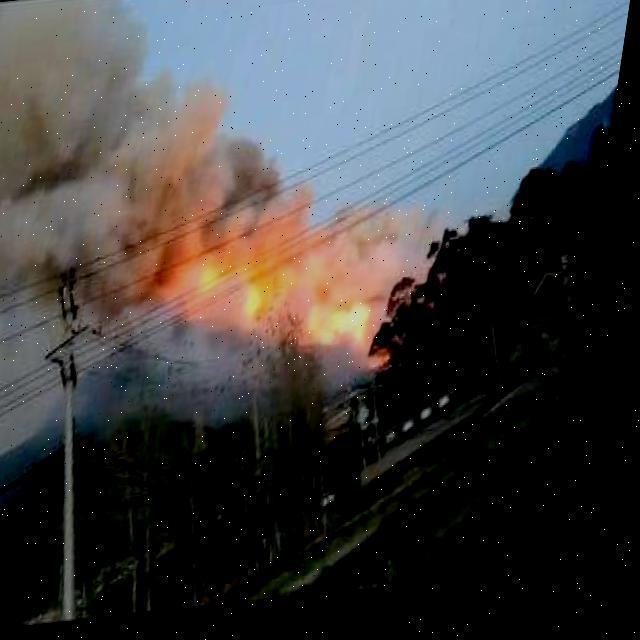Fire: (165, 234, 406, 376)
